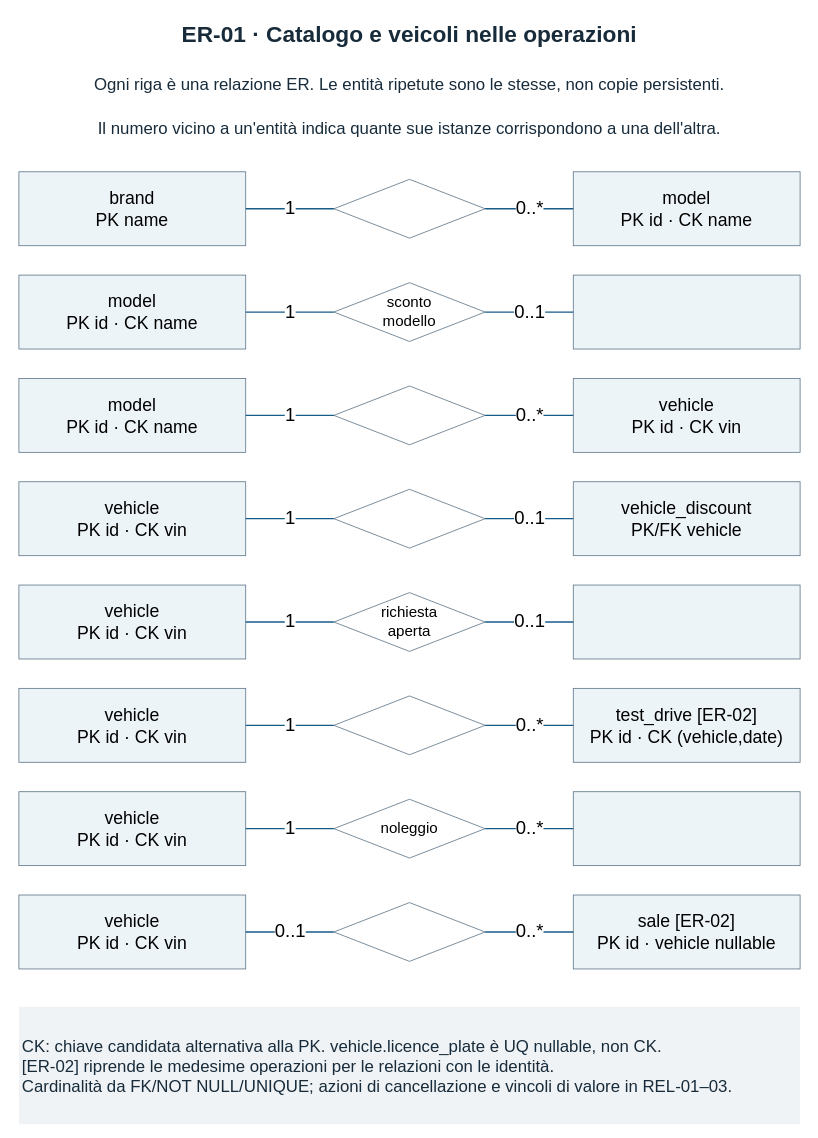
The diagram is 818 pixels wide and 1138 high, and some of its shapes have lost their labels. The shapes that lost their labels are listed below. From the top down, each one's box as (x1, y1, x2, y2) in pixels, then its label:
(333, 178, 485, 238): classifica
(572, 274, 800, 349): model_discount PK/FK model
(333, 385, 485, 445): identifica il modello
(333, 488, 485, 548): sconto veicolo
(572, 584, 800, 659): request [ER-02] PK id · CK/FK vehicle
(333, 695, 485, 755): giro di prova
(572, 791, 800, 866): rent [ER-02] PK id
(333, 902, 485, 961): riferimento nel registro
